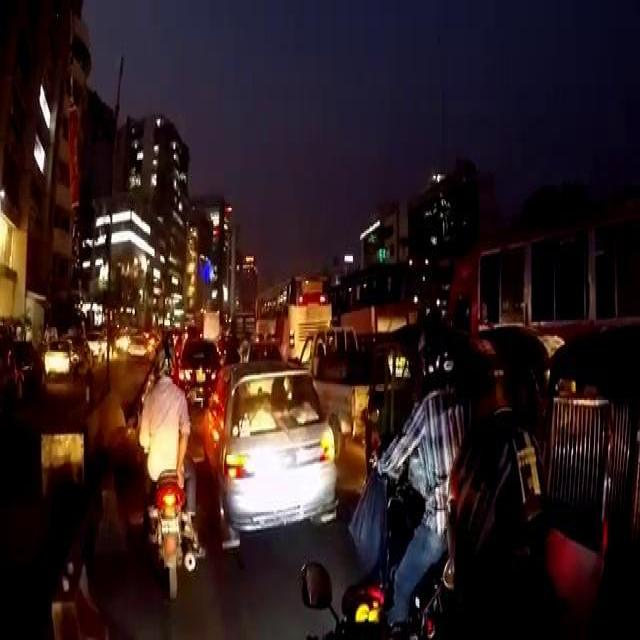Car: (201, 357, 340, 553)
Motorcycle: (143, 459, 206, 599)
